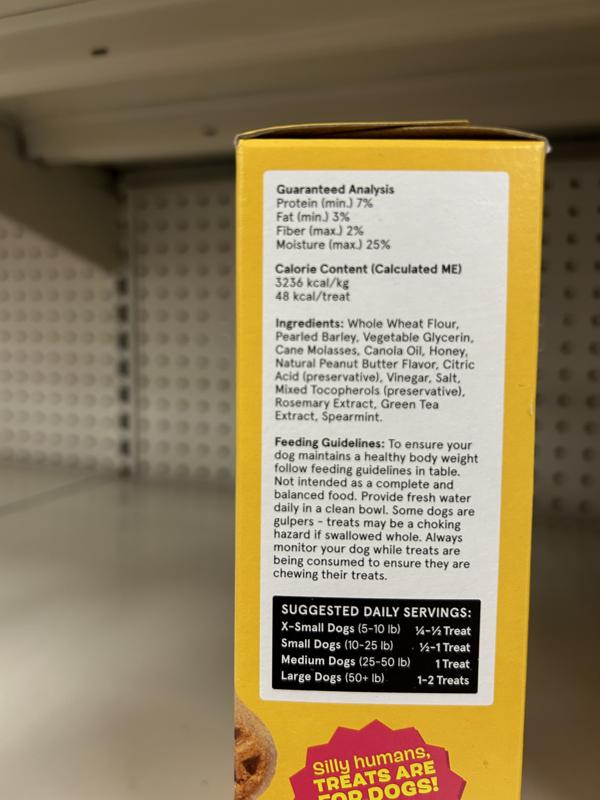ingredients: (273, 317, 477, 423)
